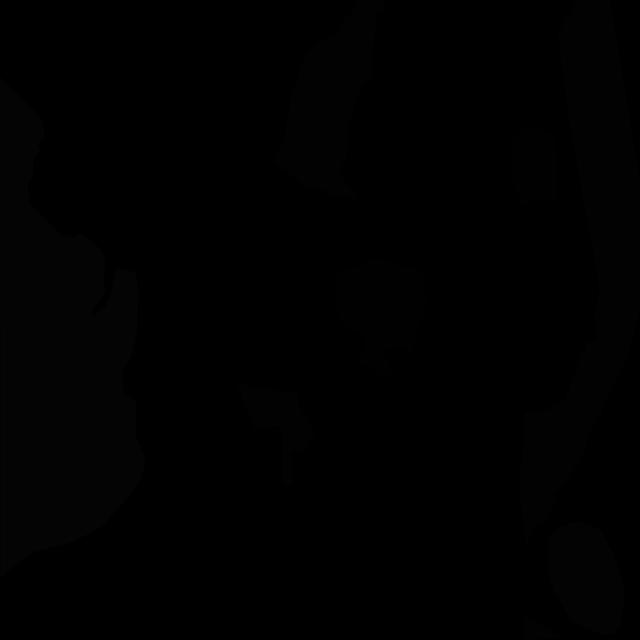cardboard: (519, 0, 640, 545), (274, 0, 385, 199), (236, 381, 316, 486), (522, 615, 564, 640)
metal: (548, 522, 624, 636)
rigid_plastic: (334, 258, 429, 380), (512, 126, 557, 209)
soft_plastic: (0, 78, 145, 577)
